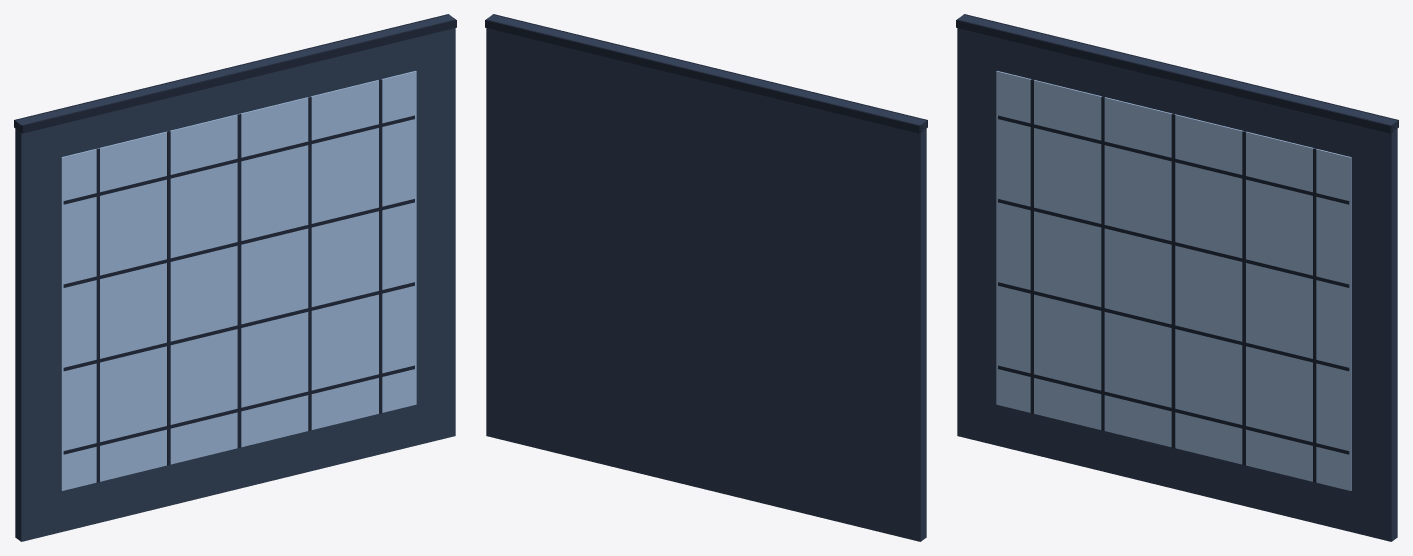
3 renders of one model, left to right at view 1: azimuth 30°, elevation 25°; view 2: azimuth 150°, elevation 25°; view 3: azimuth 330°, elevation 25°, orthographic.
Parts seen in each view (by area): view 1: background-content, background-surface, background-edge, background-grid-v-0, background-grid-h-1.3, background-accent, background-grid-h-0.86, background-grid-h-1.74, background-grid-v-0.78, background-grid-v--0.39, background-grid-v--0.78, background-grid-v-0.39; view 2: background-surface, background-edge; view 3: background-content, background-surface, background-edge, background-grid-v-0, background-accent, background-grid-h-1.3, background-grid-h-1.74, background-grid-h-0.86, background-grid-v--0.39, background-grid-v--0.78, background-grid-v-0.39, background-grid-v-0.78.
Part boxes in pixels (x1,y1,x2,y2): background-content: [61, 71, 416, 490]; background-surface: [15, 15, 455, 541]; background-edge: [14, 14, 456, 133]; background-grid-v-0: [237, 114, 241, 448]; background-grid-h-1.3: [63, 199, 414, 287]; background-accent: [63, 365, 414, 454]; background-grid-h-0.86: [63, 282, 414, 371]; background-grid-h-1.74: [63, 115, 414, 204]; background-grid-v-0.78: [378, 79, 382, 413]; background-grid-v--0.39: [167, 131, 170, 465]; background-grid-v--0.78: [96, 148, 99, 482]; background-grid-v-0.39: [308, 96, 311, 430]; background-surface: [486, 15, 926, 541]; background-edge: [485, 14, 927, 133]; background-content: [996, 71, 1351, 490]; background-surface: [957, 15, 1397, 541]; background-edge: [956, 14, 1398, 133]; background-grid-v-0: [1171, 113, 1175, 448]; background-accent: [998, 365, 1349, 454]; background-grid-h-1.3: [998, 199, 1349, 287]; background-grid-h-1.74: [998, 115, 1349, 204]; background-grid-h-0.86: [998, 282, 1349, 371]; background-grid-v--0.39: [1101, 96, 1104, 430]; background-grid-v--0.78: [1030, 79, 1034, 413]; background-grid-v-0.39: [1242, 131, 1245, 465]; background-grid-v-0.78: [1313, 148, 1316, 482].
Bounding box in the file's own units: 2.4 × 2.2 × 0.08.
